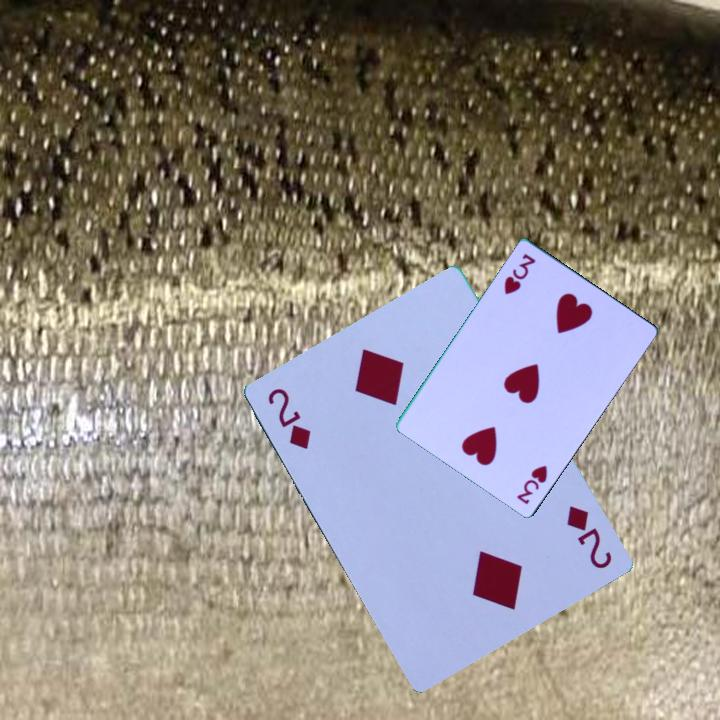2d: (563, 502, 616, 572), (265, 384, 315, 453)
3h: (500, 249, 539, 297), (513, 461, 550, 507)
